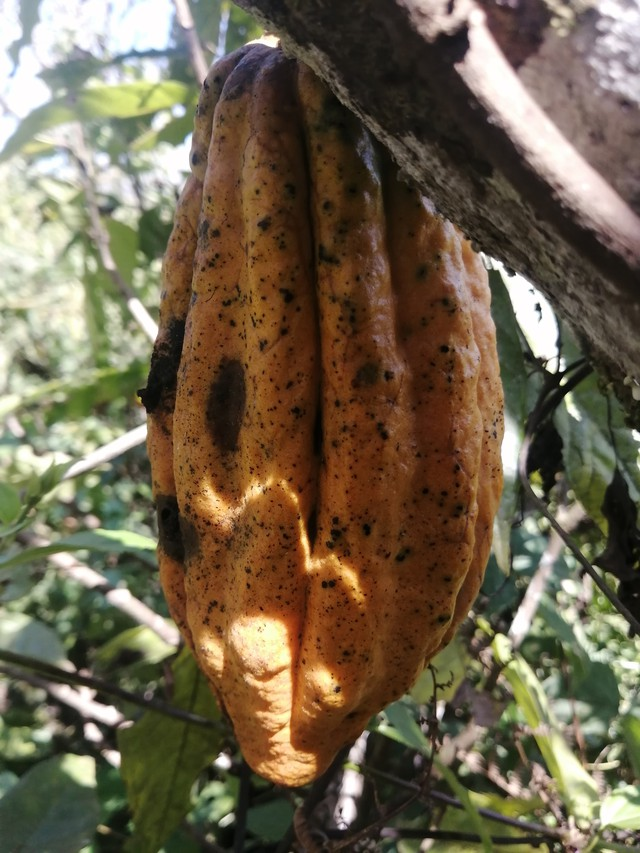carmenta foraseminis: (141, 39, 510, 788)
